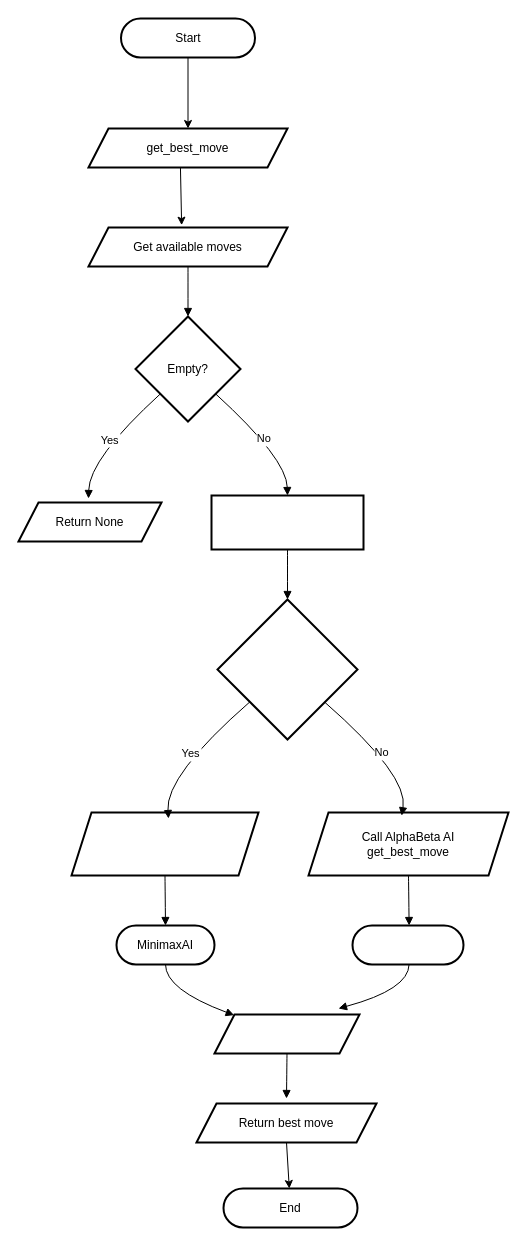
Image size: 526x1245. Some labels were removed from this diagram. The box of each missing label's shape, as (x1, y1, x2, y2) in pixels:
AlphaBetaAI: (351, 924, 464, 965)
Call Minimax AI get_best_move: (70, 811, 259, 876)
Count moves: (210, 494, 364, 550)
moves > 35?: (216, 598, 358, 740)
Return move: (213, 1013, 360, 1054)
